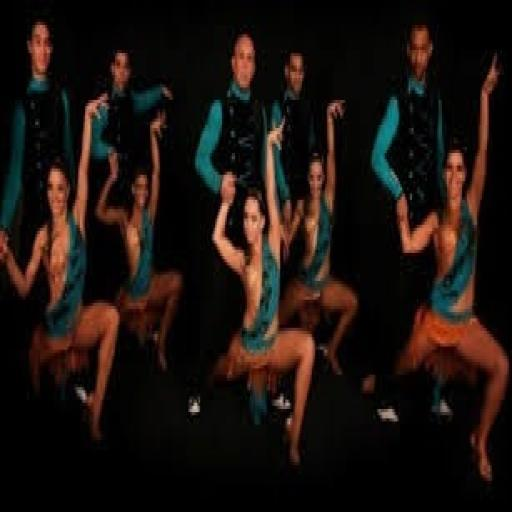dancing: (376, 44, 510, 487), (0, 90, 122, 450), (202, 116, 318, 472)
